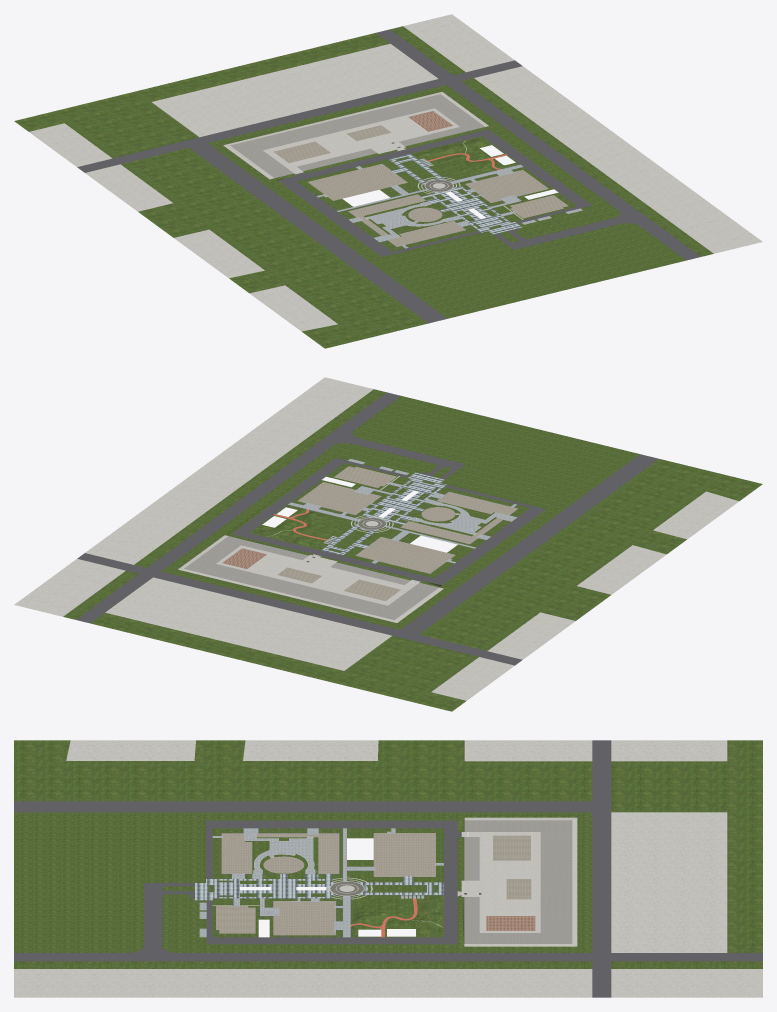
File: Grounds.FBX
3 views of the same model, one above another, from view 1: azimuth 30°, elevation 25°; view 2: azimuth 150°, elevation 25°; view 3: azimuth 270°, elevation 25° (orthographic). The views are drawn at different scales.
Parts seen in each view (by area): view 1: Ground27, Ground01, Ground02, Ground04, Ground03, Ground12, Ground05, Ground10, Ground09, Ground23, Ground08, Ground14 (+8 smaller); view 2: Ground27, Ground01, Ground02, Ground04, Ground03, Ground12, Ground05, Ground10, Ground09, Ground23, Ground08, Ground14 (+8 smaller); view 3: Ground27, Ground01, Ground02, Ground04, Ground03, Ground05, Ground12, Ground10, Ground08, Ground23, Ground09, Ground14 (+11 smaller).
Boxes of the visible parts, x1,y1,x2,y2 form: Ground27: (14,14,762,348); Ground01: (208,85,686,318); Ground02: (223,92,488,179); Ground04: (348,194,465,248); Ground03: (308,164,408,200); Ground12: (392,197,579,253); Ground05: (465,170,548,202); Ground10: (283,181,394,256); Ground09: (278,129,493,184); Ground23: (296,159,425,210); Ground08: (482,133,591,208); Ground14: (493,212,637,249); Ground27: (14,377,762,711); Ground01: (161,396,639,629); Ground02: (178,535,443,622); Ground04: (400,491,517,544); Ground03: (355,531,455,573); Ground12: (344,461,532,507); Ground05: (298,482,381,514); Ground10: (435,506,546,581); Ground09: (231,530,447,585); Ground23: (343,527,474,577); Ground08: (237,458,347,532); Ground14: (334,431,465,479); Ground27: (14,740,762,997); Ground01: (14,812,592,952); Ground02: (457,817,577,946); Ground04: (212,828,339,873); Ground03: (347,828,443,882); Ground05: (273,901,335,935); Ground12: (195,828,273,937); Ground10: (206,820,443,828); Ground08: (206,935,443,944); Ground23: (347,828,443,882); Ground09: (444,820,461,944); Ground14: (131,883,194,952).
Bounding box in the file's own units: 43422 × 273 × 53404.
